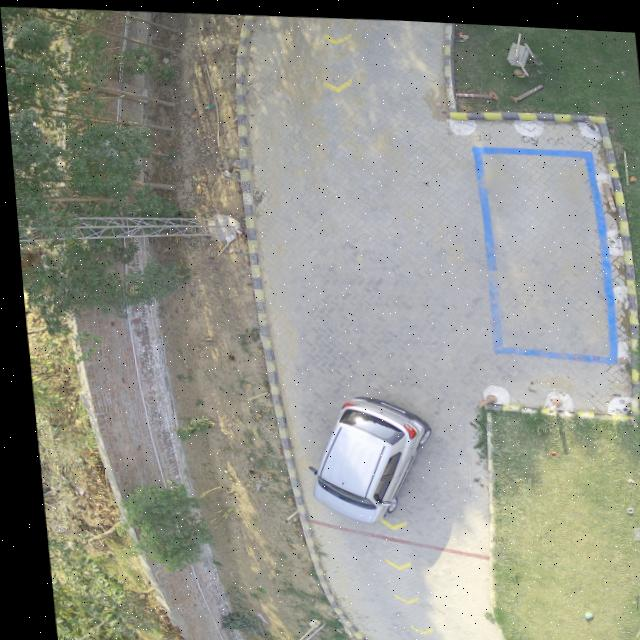car: (301, 392, 423, 518)
